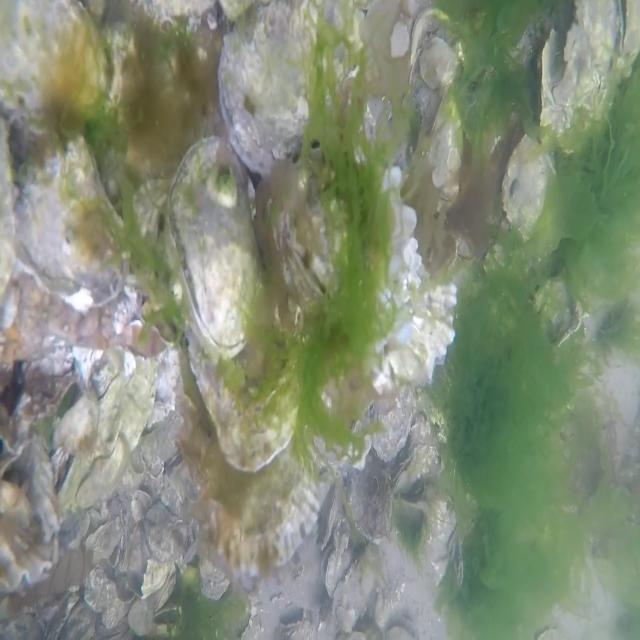Oyster-Closed: (2, 135, 134, 314), (169, 156, 262, 354), (3, 1, 116, 138), (211, 20, 304, 174), (502, 145, 550, 238)
Oyster-Indeterminate: (188, 364, 308, 479), (194, 473, 318, 578), (262, 176, 342, 338), (0, 418, 61, 589)
